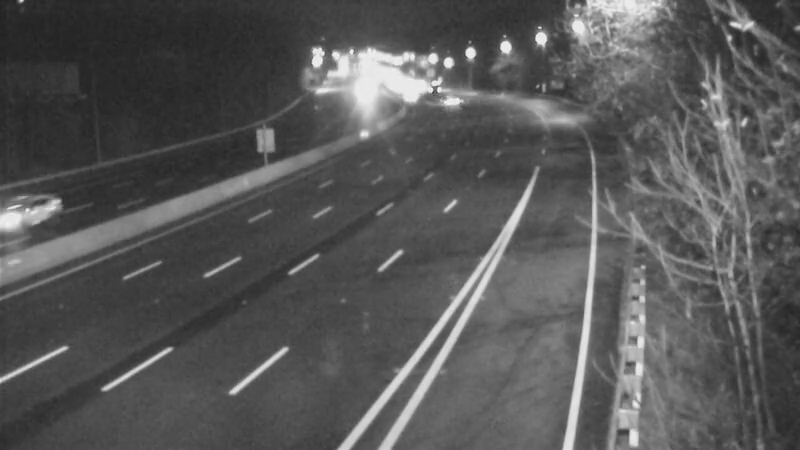vehicle: (1, 179, 71, 259), (381, 71, 431, 121), (427, 72, 477, 122)
